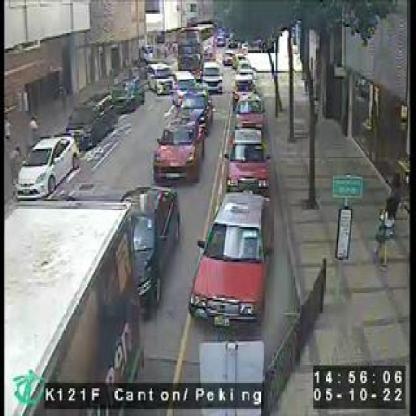Bus: (176, 21, 213, 76)
Car: (188, 194, 272, 326), (99, 184, 177, 315), (13, 134, 77, 198), (155, 121, 204, 184), (224, 128, 270, 194), (65, 92, 111, 149), (170, 96, 212, 128), (113, 78, 142, 113), (235, 92, 264, 126), (147, 64, 173, 94), (202, 61, 223, 90), (232, 71, 254, 90)
